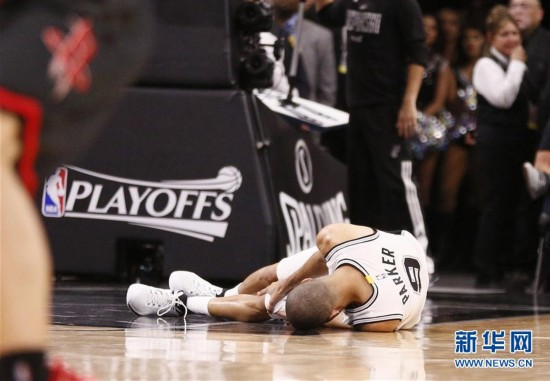fall: (121, 203, 441, 343)
